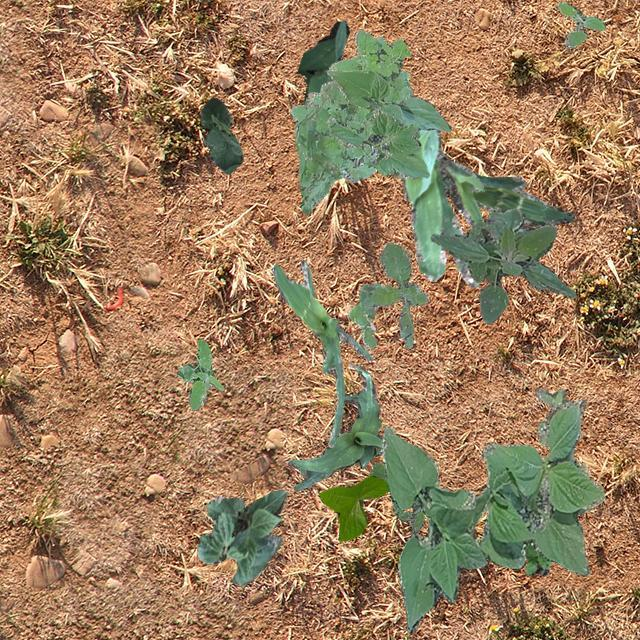crop: (296, 19, 574, 224), (380, 398, 604, 630), (270, 258, 372, 446), (430, 208, 574, 322), (402, 91, 482, 286), (326, 70, 450, 178), (288, 362, 382, 490), (196, 488, 286, 584), (318, 474, 388, 540), (200, 96, 242, 174)
weed: (288, 29, 411, 212), (348, 242, 428, 348), (368, 418, 424, 532), (176, 338, 222, 410), (534, 388, 582, 444), (556, 1, 604, 48), (524, 540, 550, 574)
